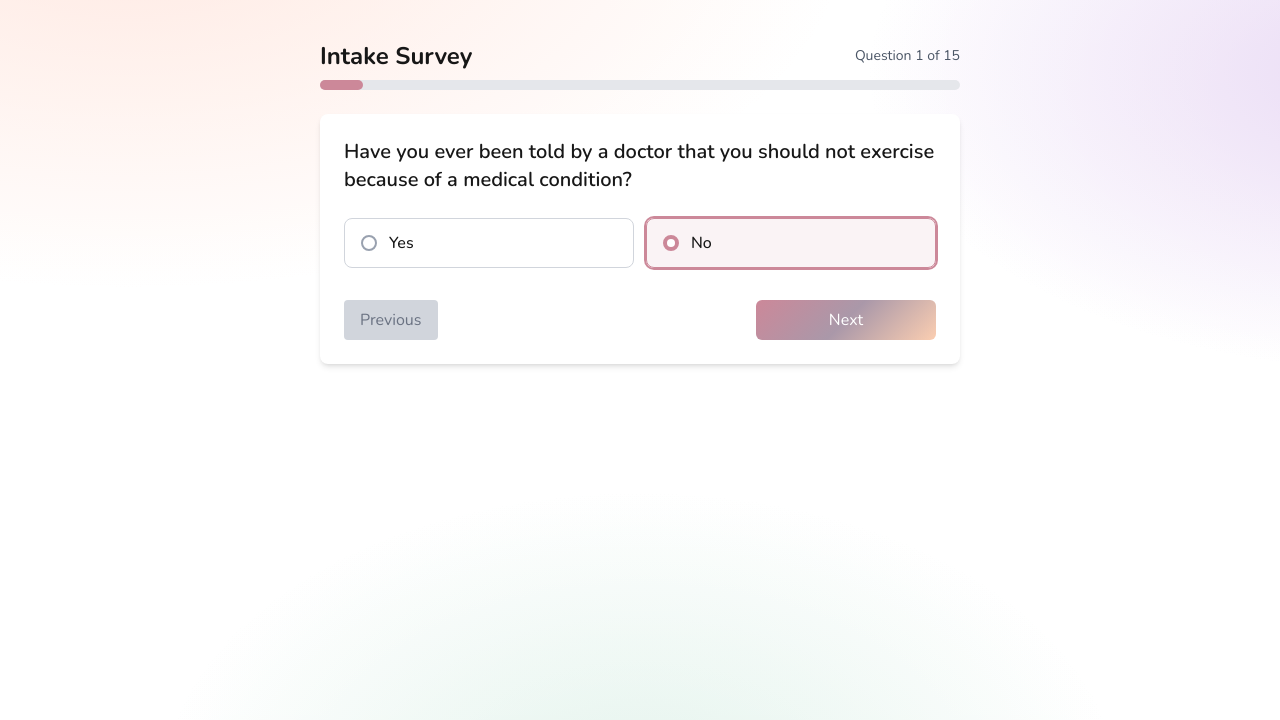
Scenario: SurveyPage UI controls and validation › treats 0 as a valid answer on 0–10 scale boxes (number) when required
Expected: the heading "Intake Survey" is shown, [320,40,472,72]
Click the button "Next" at (846, 320), box [756,300,936,340]
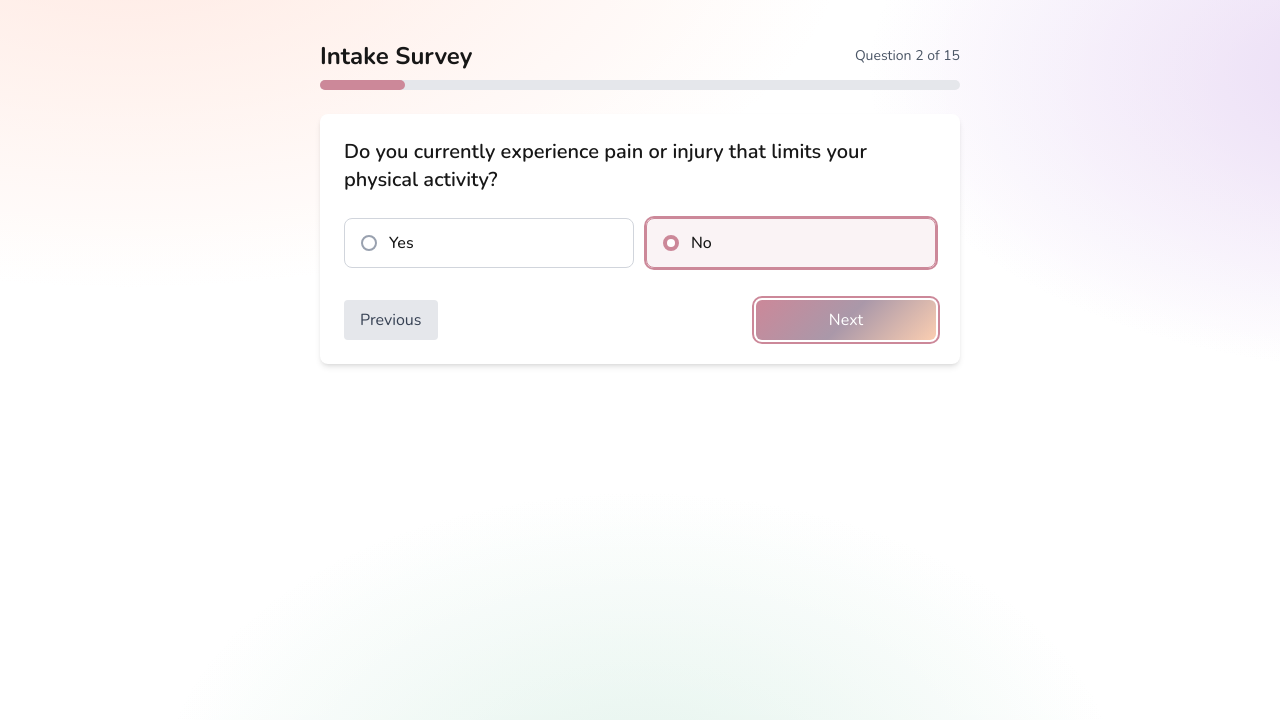
Expected: the text "Question 2 of 15" is shown, [855,46,960,66]
Click the button "Next" at (846, 320), box [756,300,936,340]
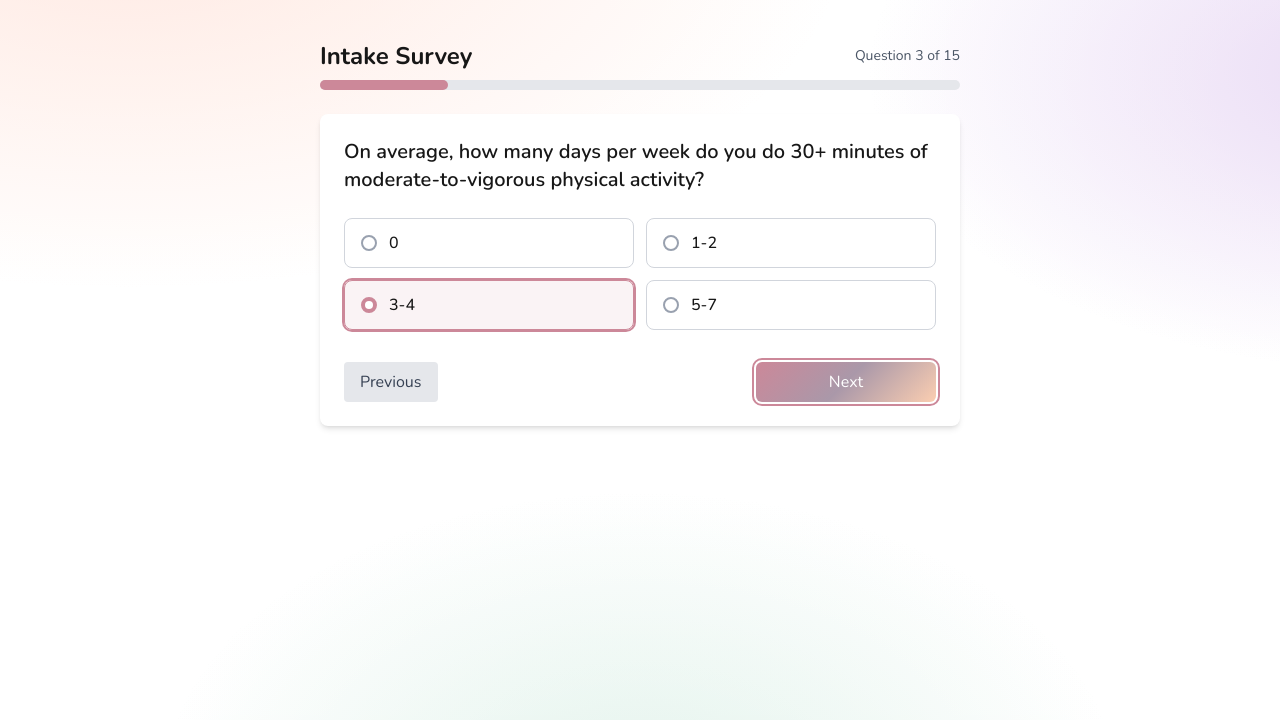
Expected: the text "Question 3 of 15" is shown, [855,46,960,66]
Click the button "Next" at (846, 382), box [756,362,936,402]
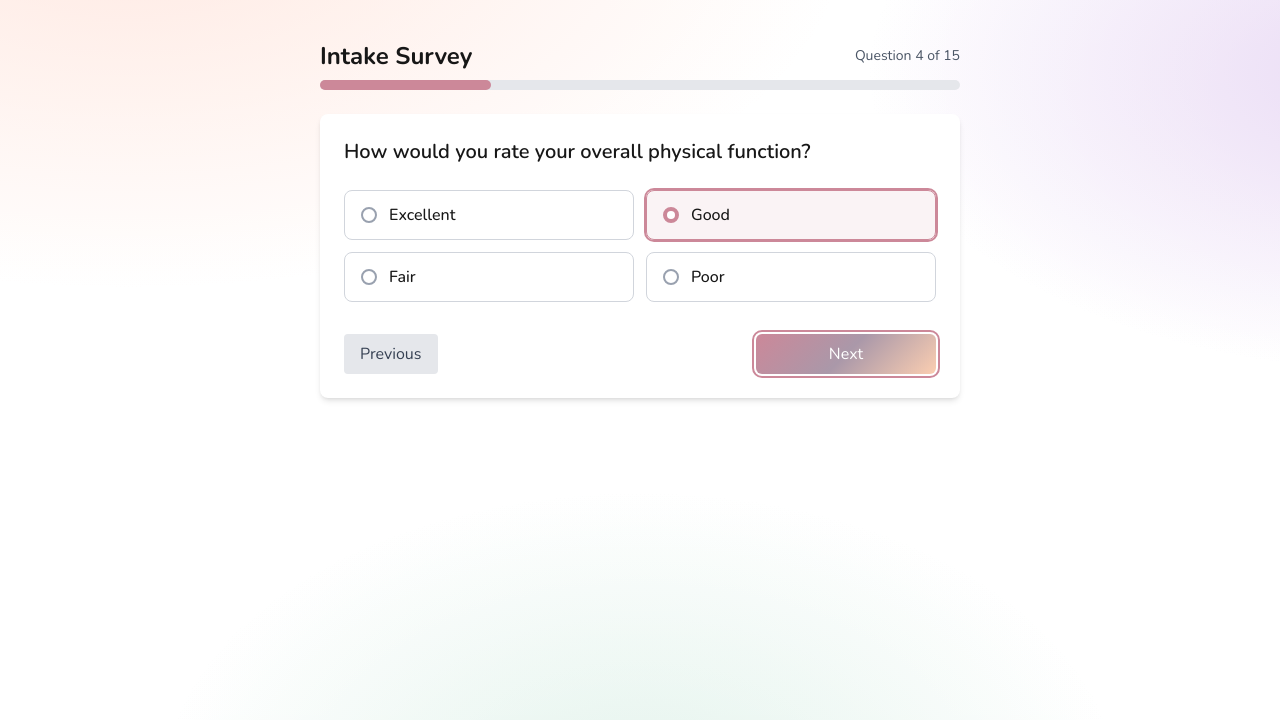
Expected: the text "Question 4 of 15" is shown, [855,46,960,66]
Click the button "Next" at (846, 354), box [756,334,936,374]
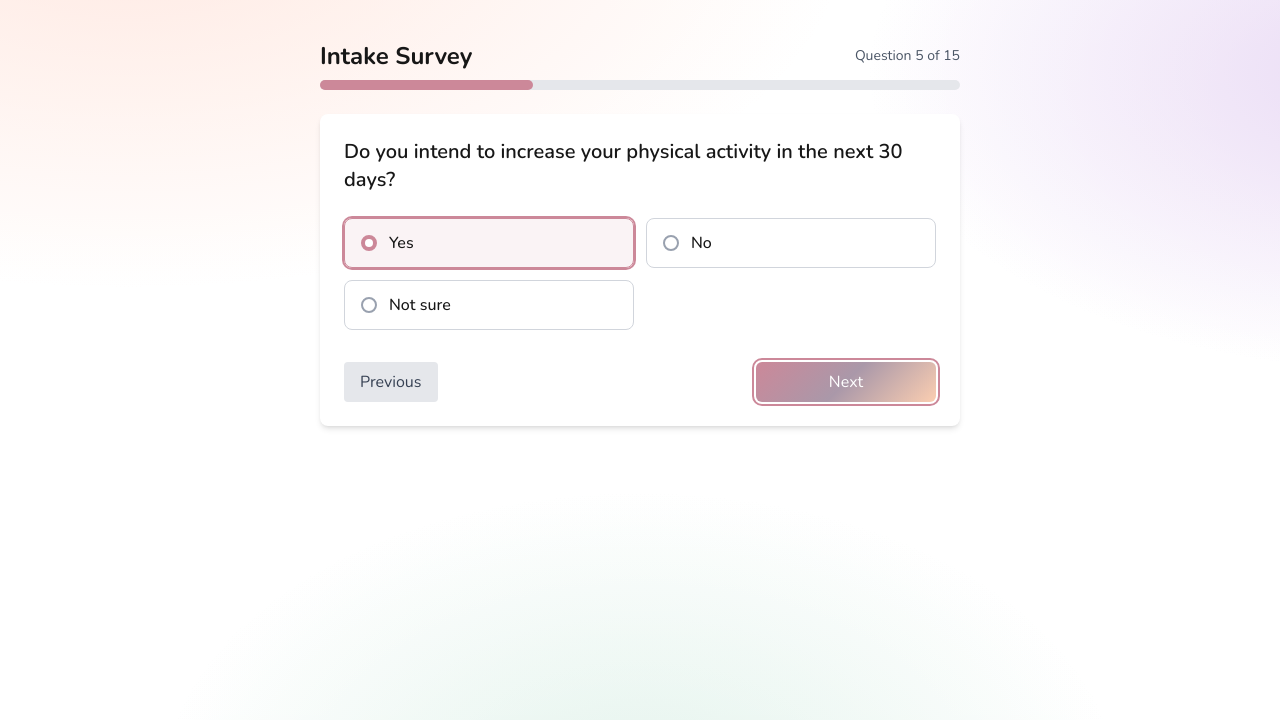
Expected: the text "Question 5 of 15" is shown, [855,46,960,66]
Click the button "Next" at (846, 382), box [756,362,936,402]
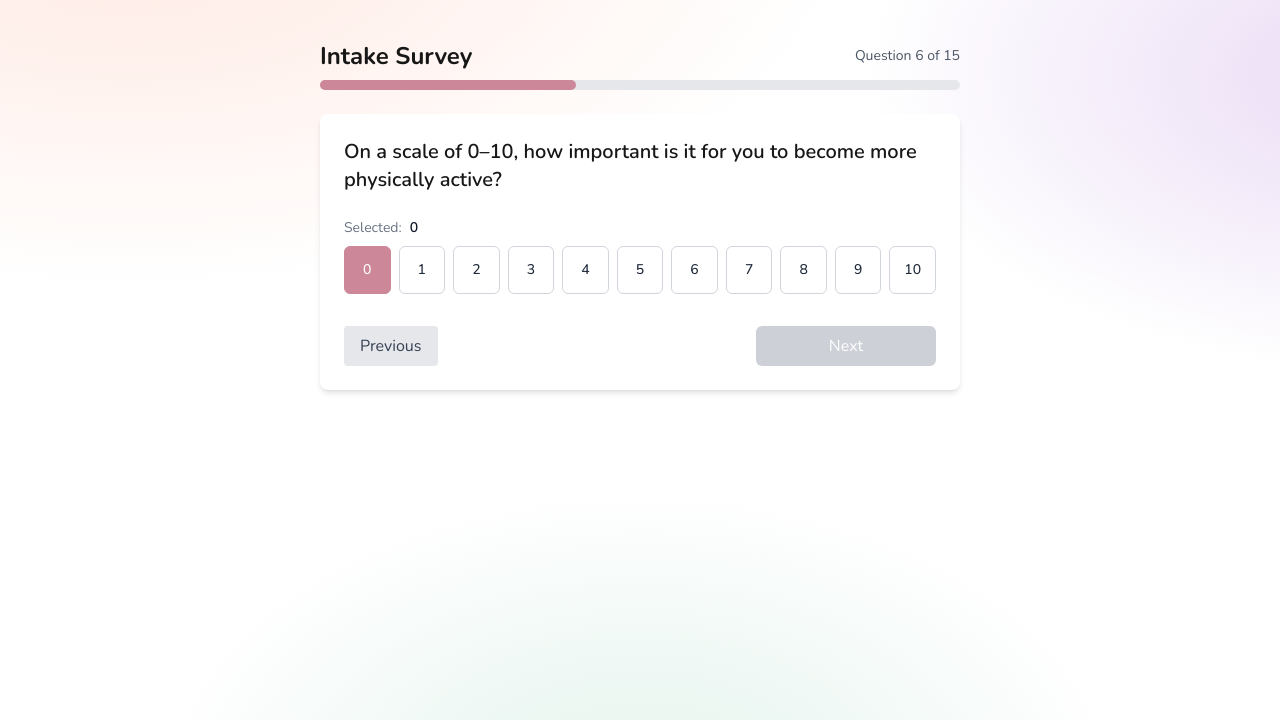
Expected: the text "Question 6 of 15" is shown, [855,46,960,66]
Result: the element with test id "scale-0-10" is shown at [344,246,936,294]
Click the button with test id "scale-box-0" at (367, 270), box [344,246,390,294]
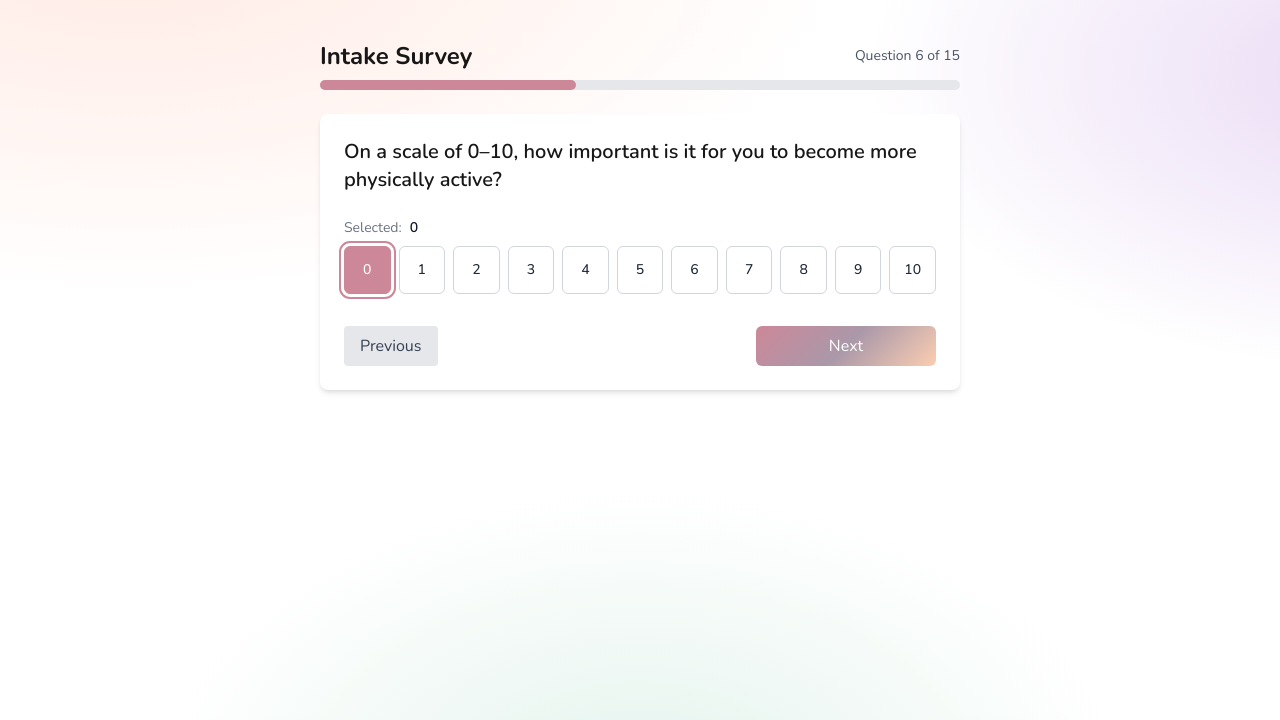
Result: the button "Next" is enabled at [756,326,936,366]
